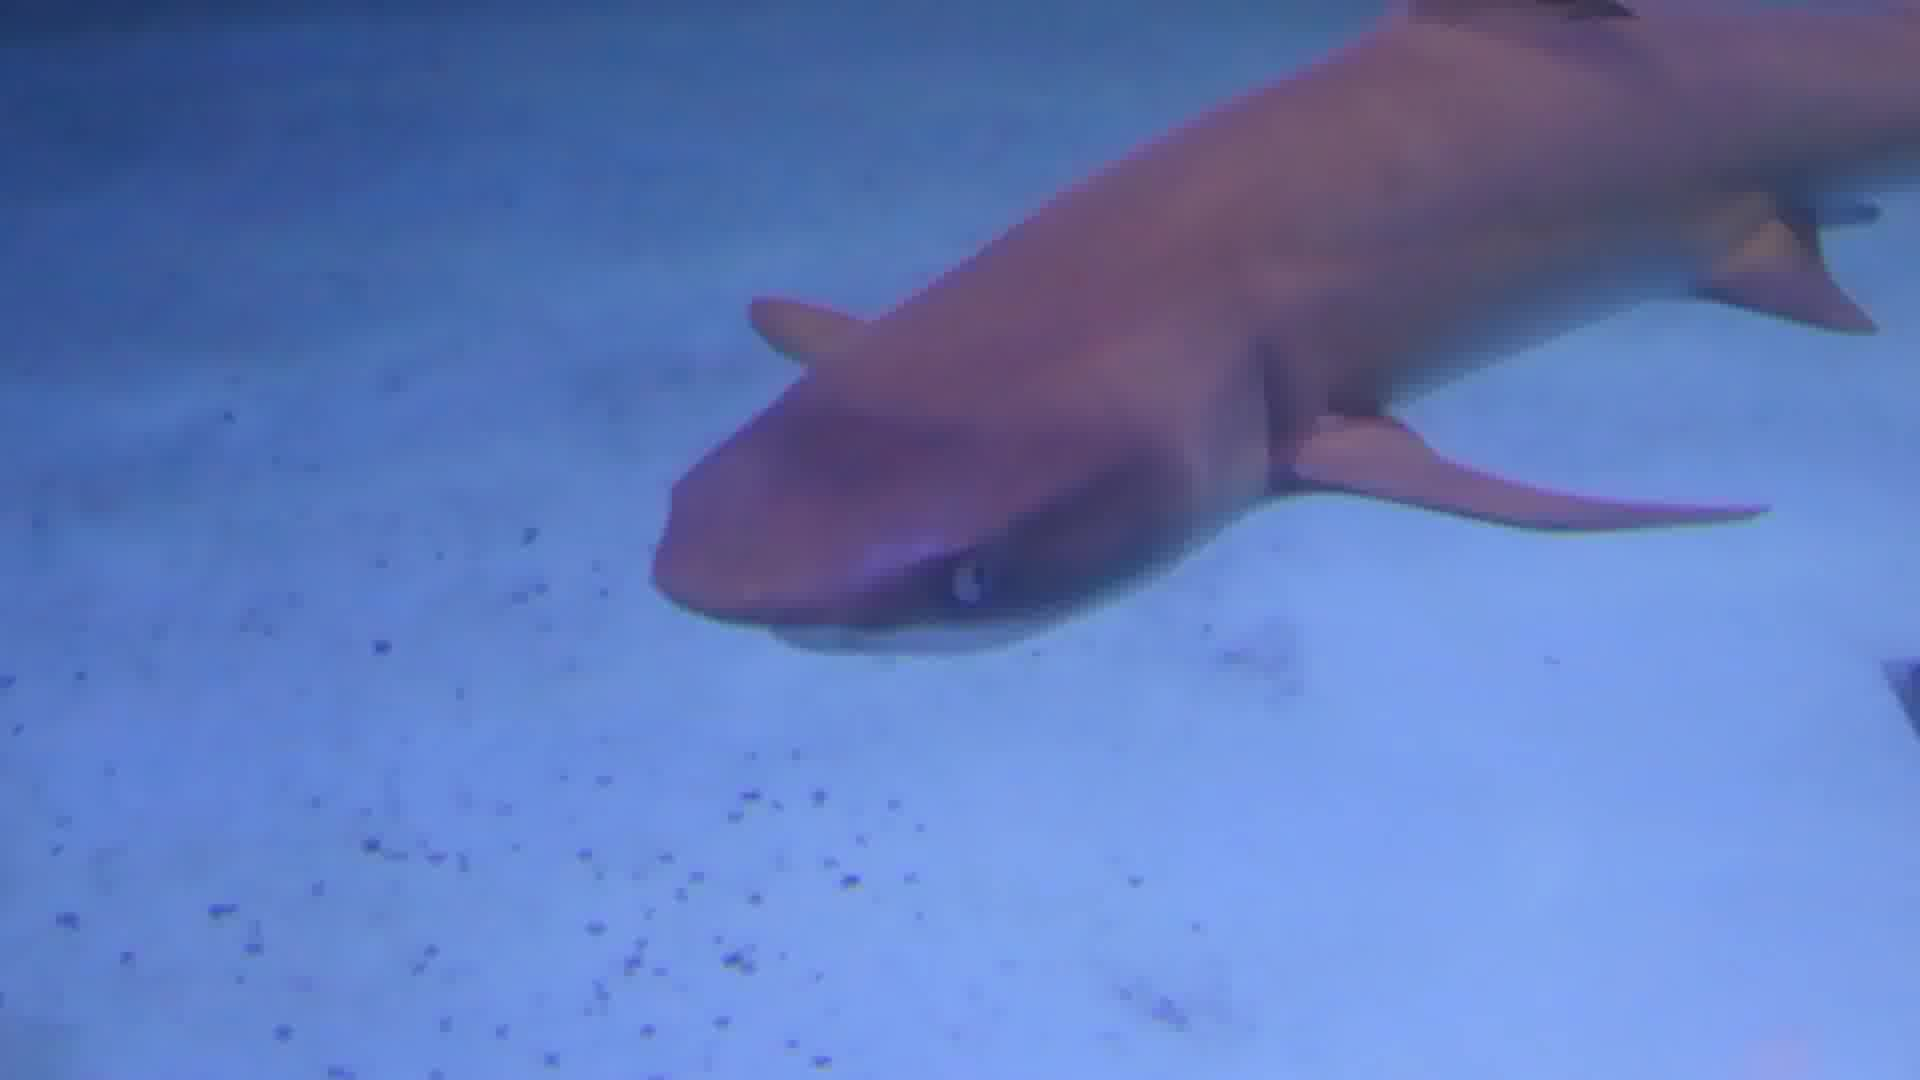Triaenodon obesus: (647, 5, 1907, 650)
